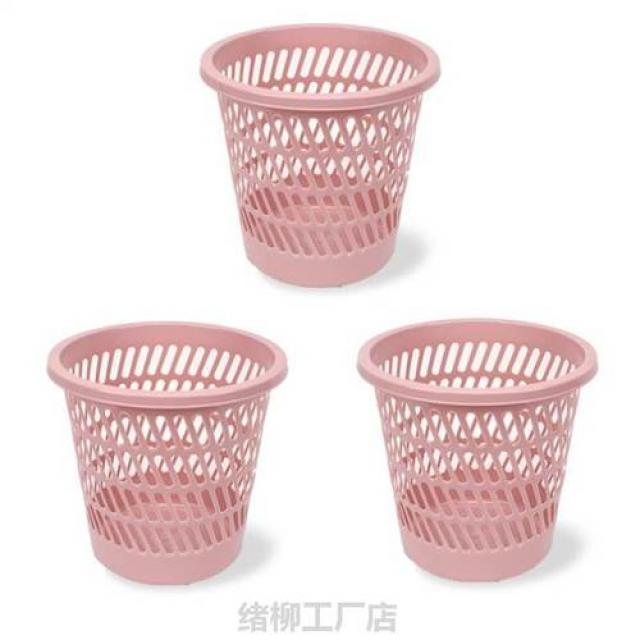Dustbin: (194, 18, 446, 294), (352, 313, 602, 585), (44, 316, 291, 587)
